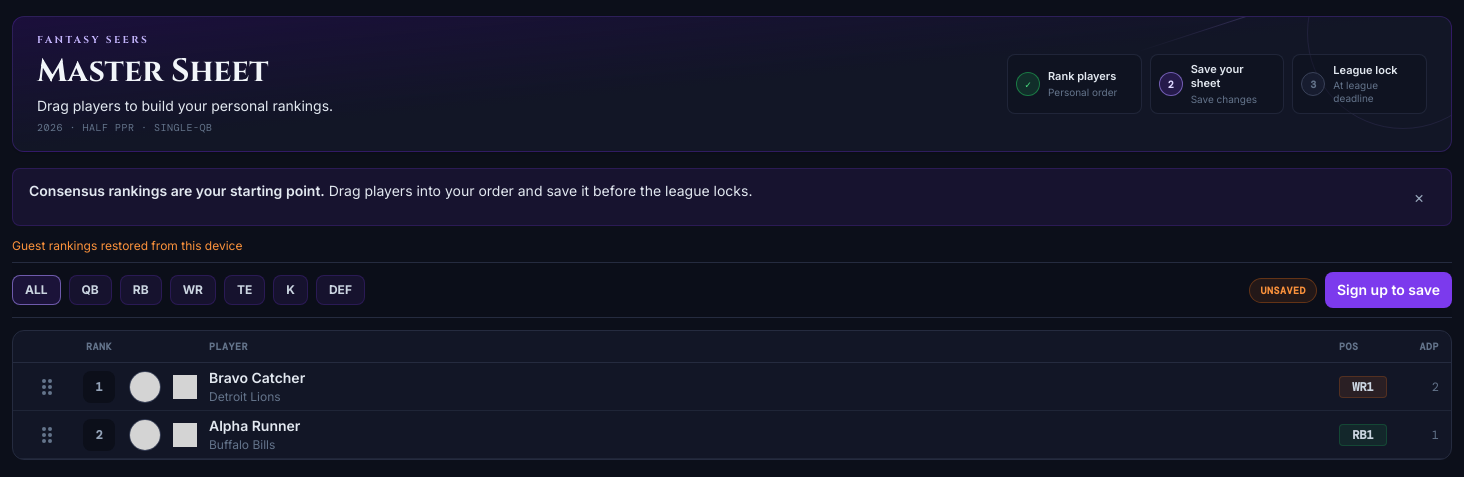
Scenario: MasterSheetPage › for guests › then signs in › saves the guest rankings to a new account's empty board
Expected: the text "Guest rankings restored from this device" is shown, [12,238,242,253]
Click the button "Sign up to save" at [1388, 290], box [1325,272,1452,308]
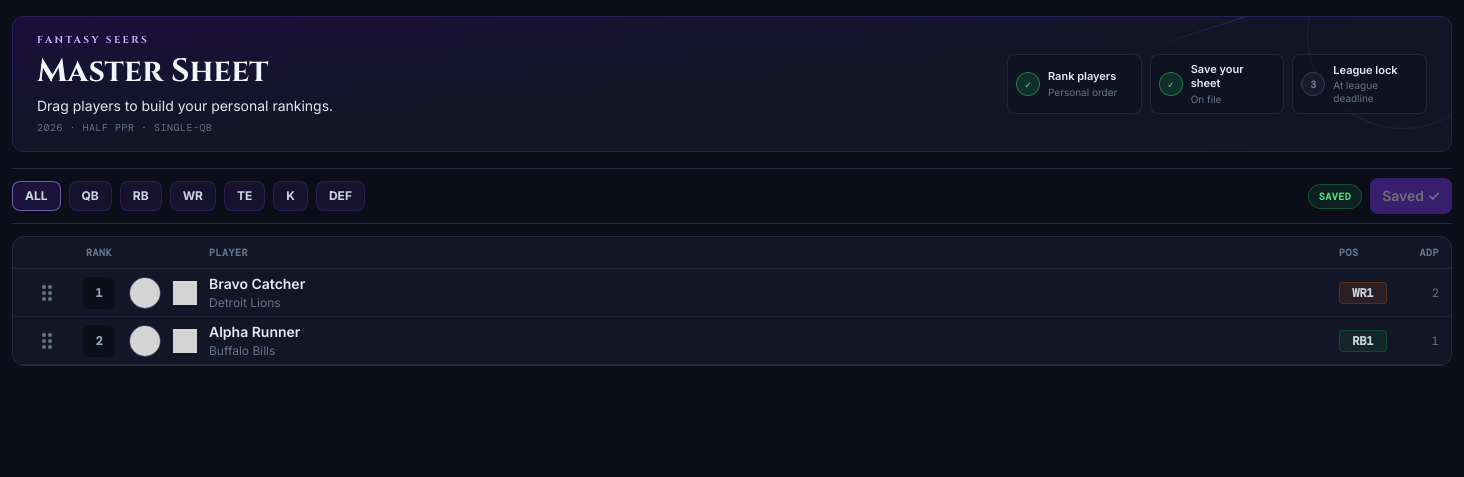
Expected: the button "Saved ✓" is shown, [1370,178,1452,214]
